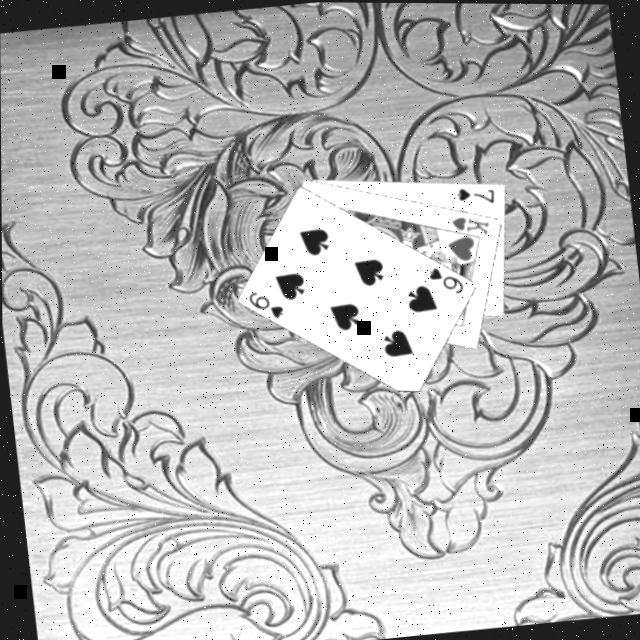6S: (245, 284, 288, 324), (424, 260, 468, 298)
7S: (453, 182, 499, 208)
KH: (448, 210, 494, 240)
